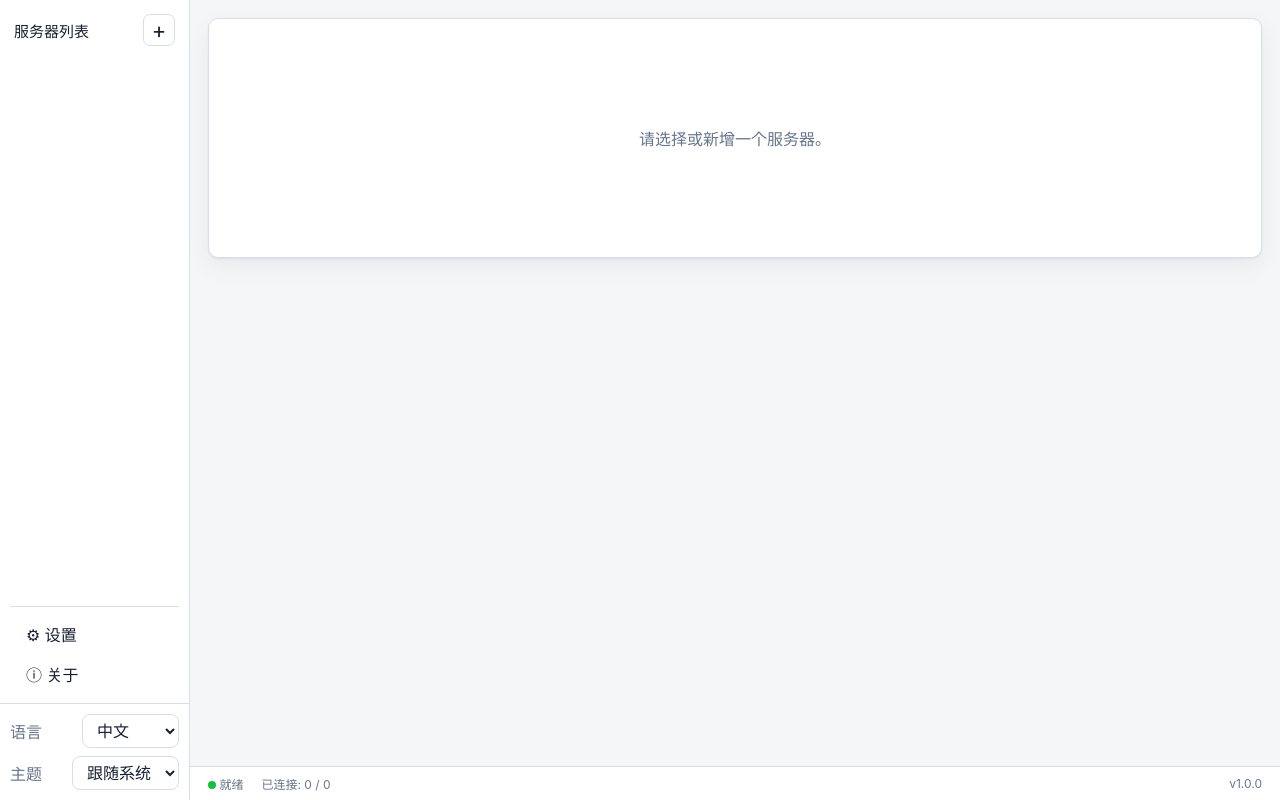
Test: TunnelDockApp › fills a common private key path in server dialog
The width and height of the screenshot is (1280, 800).
Click the button labelled "添加服务器": (159, 30) [143, 14, 175, 46]
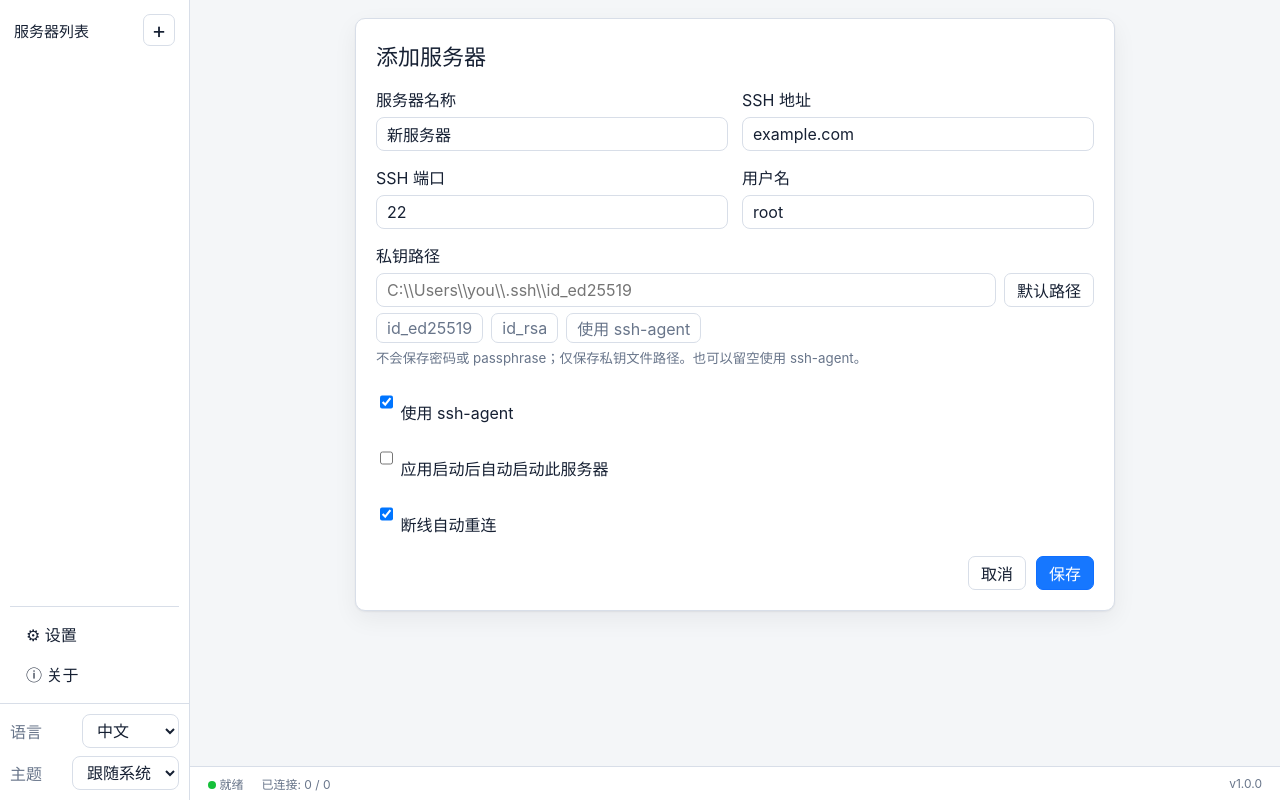
Click the button "id_ed25519": (430, 328) [376, 313, 483, 343]
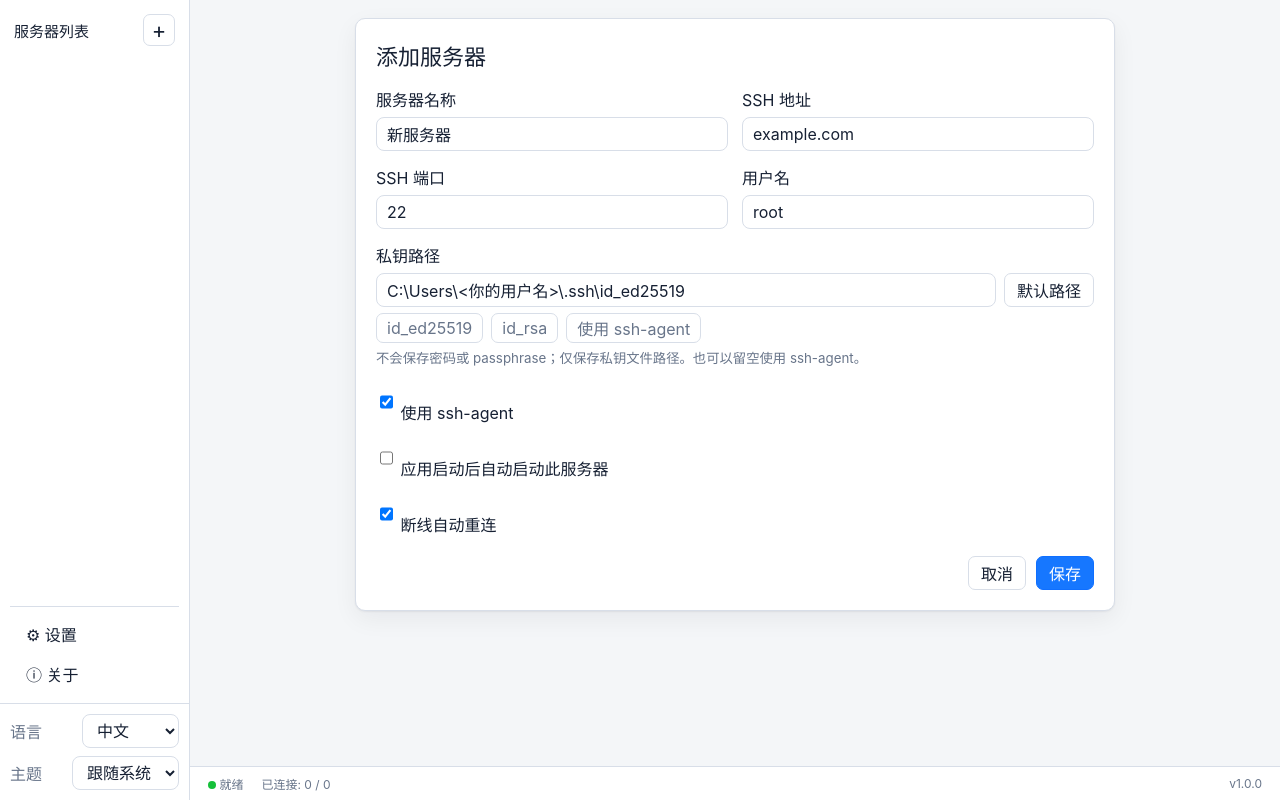
expect the field labelled "私钥路径" holds "C:\\Users\\<你的用户名>\\.ssh\\id_ed25519": met, box [376, 273, 996, 307]
